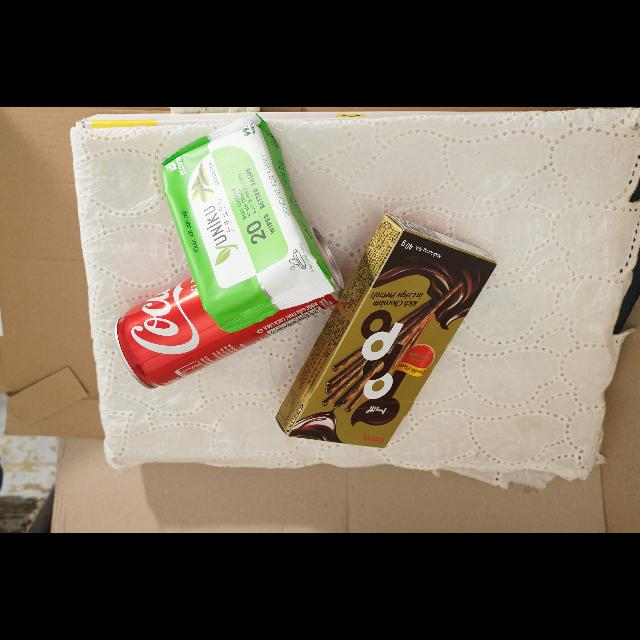banh_toppo_socola: (276, 215, 496, 447)
coca_cola: (115, 279, 336, 387)
khan_giay: (163, 114, 332, 333)
